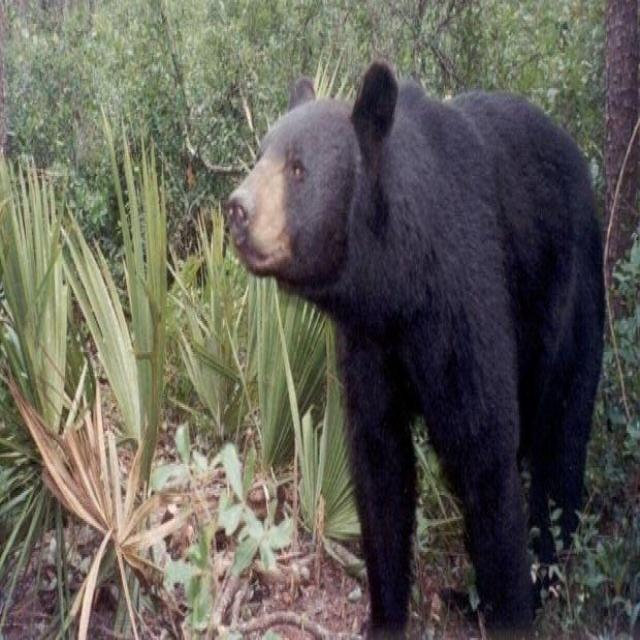Bear: (224, 62, 609, 640)
